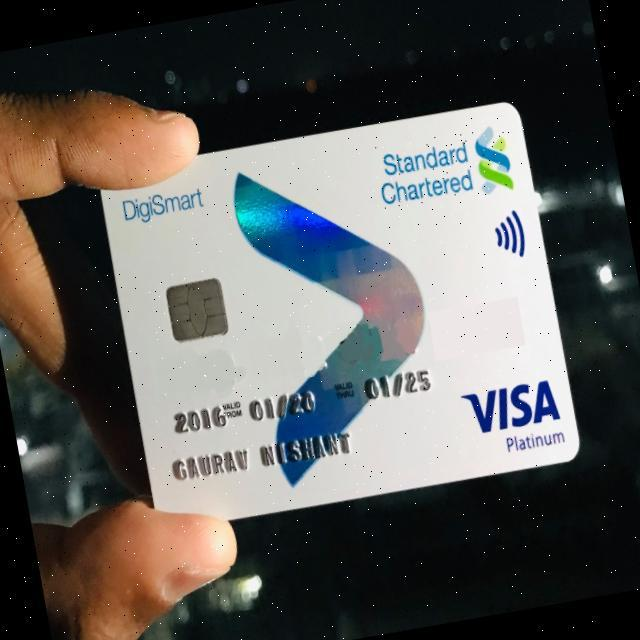Standard Chartered: (374, 124, 517, 210)
